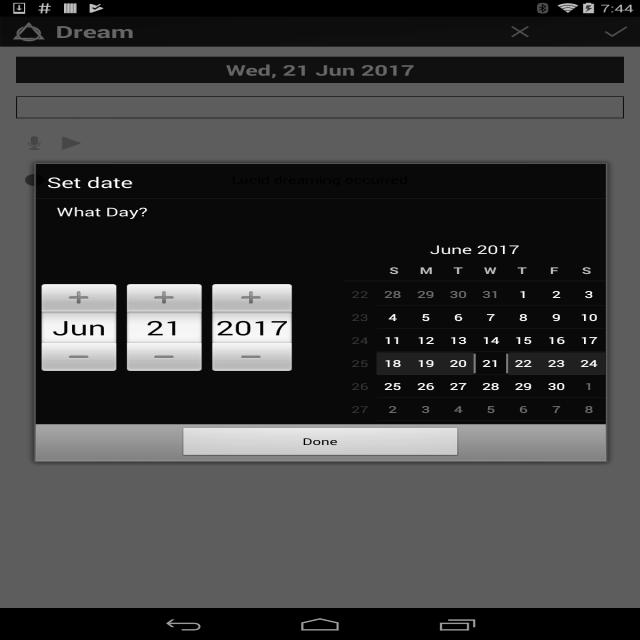Button: (179, 427, 462, 459)
EditText: (208, 312, 296, 343), (123, 312, 206, 343), (38, 312, 120, 343)
ImageButton: (208, 282, 296, 312), (208, 343, 296, 373), (123, 282, 206, 312), (123, 343, 206, 373), (38, 282, 120, 312), (38, 343, 120, 373)
ImageView: (37, 198, 606, 199), (344, 281, 605, 281)
TextView: (47, 168, 595, 192), (51, 200, 595, 223), (430, 234, 519, 264), (538, 264, 571, 277), (346, 264, 378, 277), (378, 264, 410, 277), (410, 264, 442, 277), (442, 264, 474, 277), (474, 264, 506, 277), (506, 264, 538, 277), (571, 264, 603, 277)
